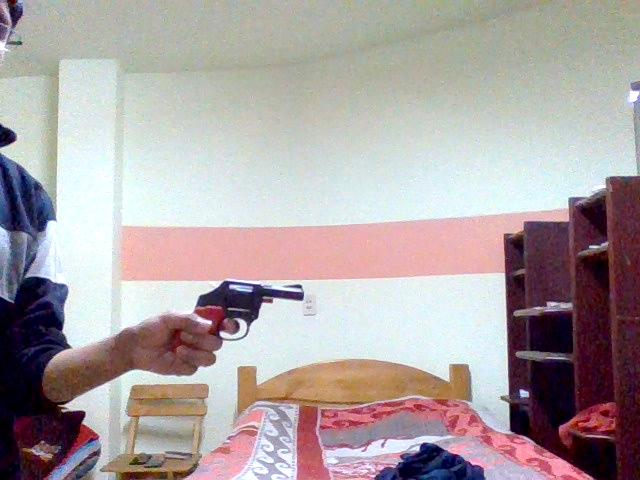pistol: (128, 266, 348, 374)
